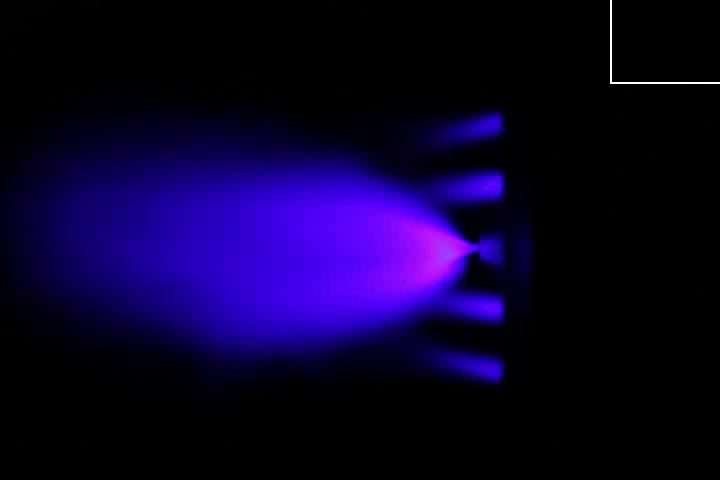burner cap: (477, 233, 504, 265)
pilot flame: (418, 345, 507, 389), (413, 168, 505, 207), (416, 114, 507, 149), (426, 289, 504, 324)
unstable: (385, 205, 478, 287)
